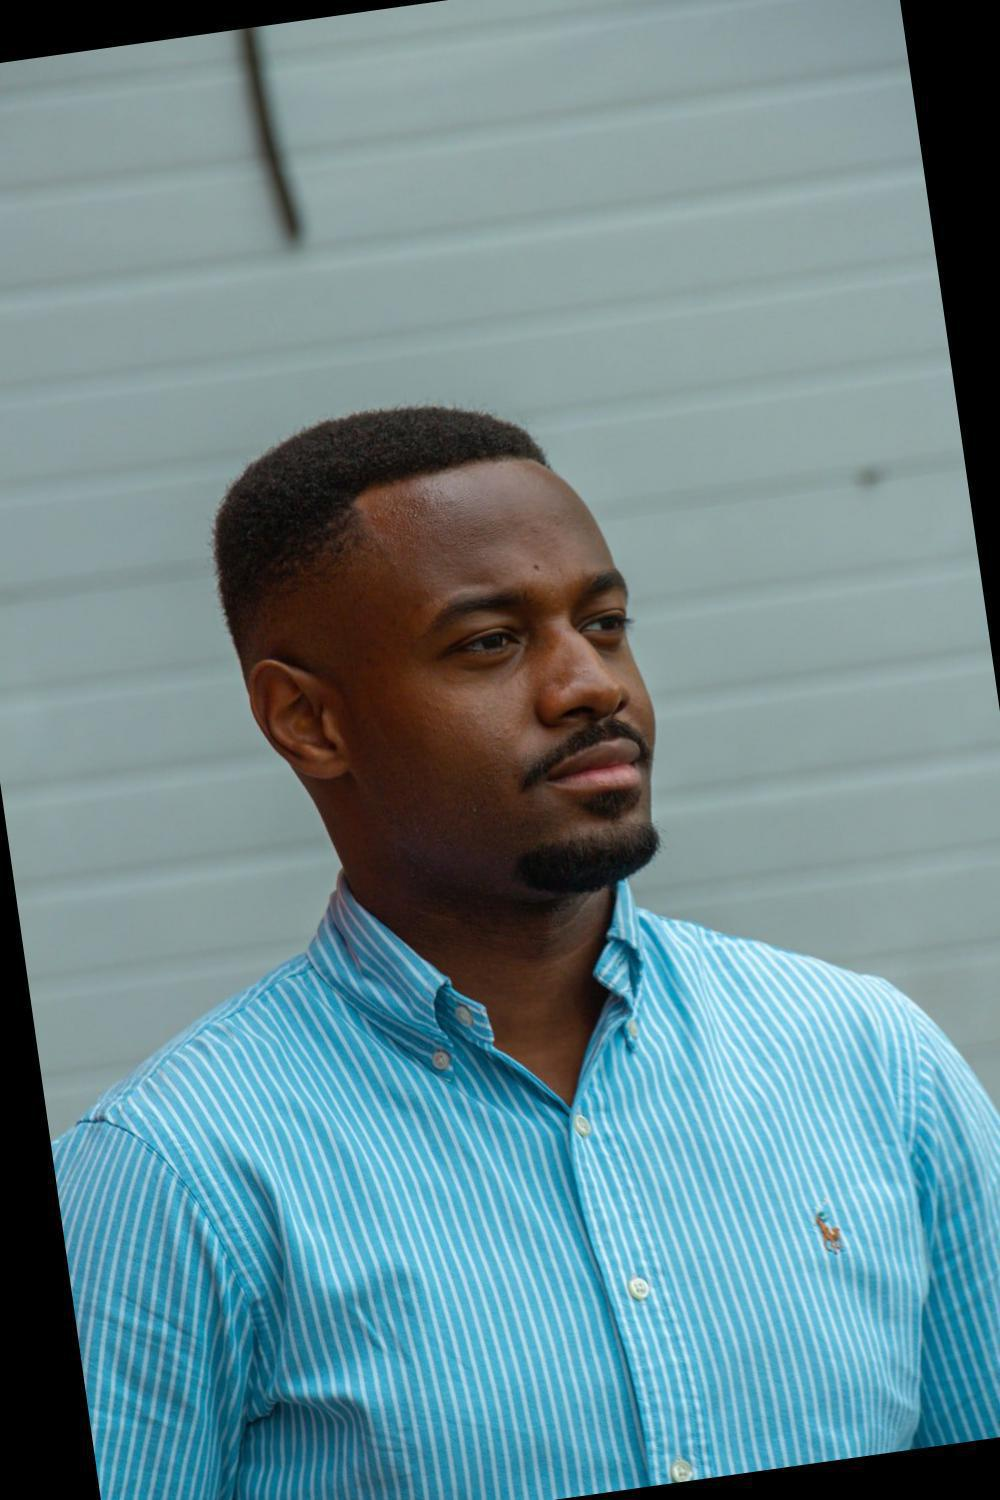Sober: (265, 441, 702, 895)
